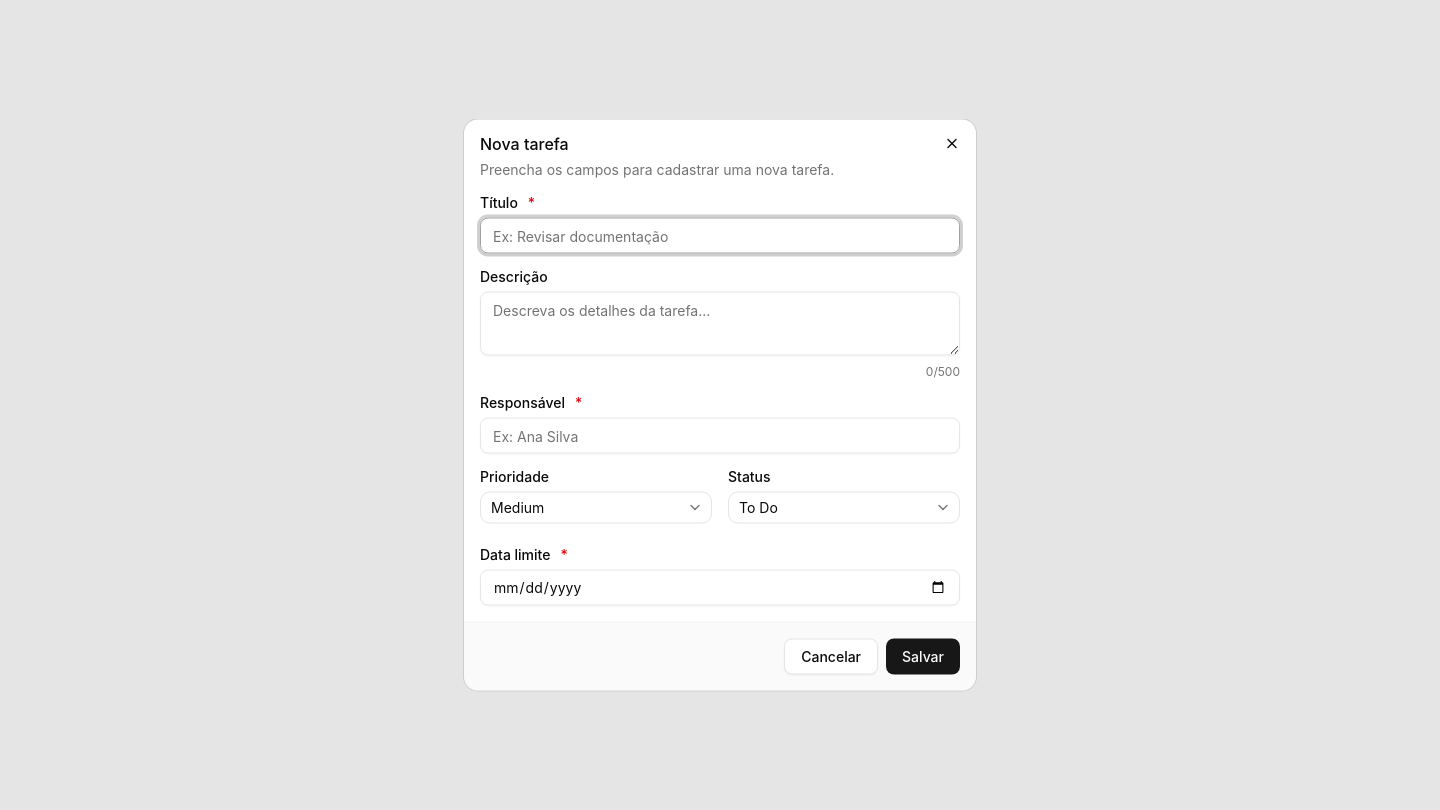
it: TaskForm › exibe erros de validação ao submeter formulário inválido
What coordinates should you click on to do the following:
click the button "Salvar"
I would click on:
 (923, 656)
Its box is [886,638,960,674].
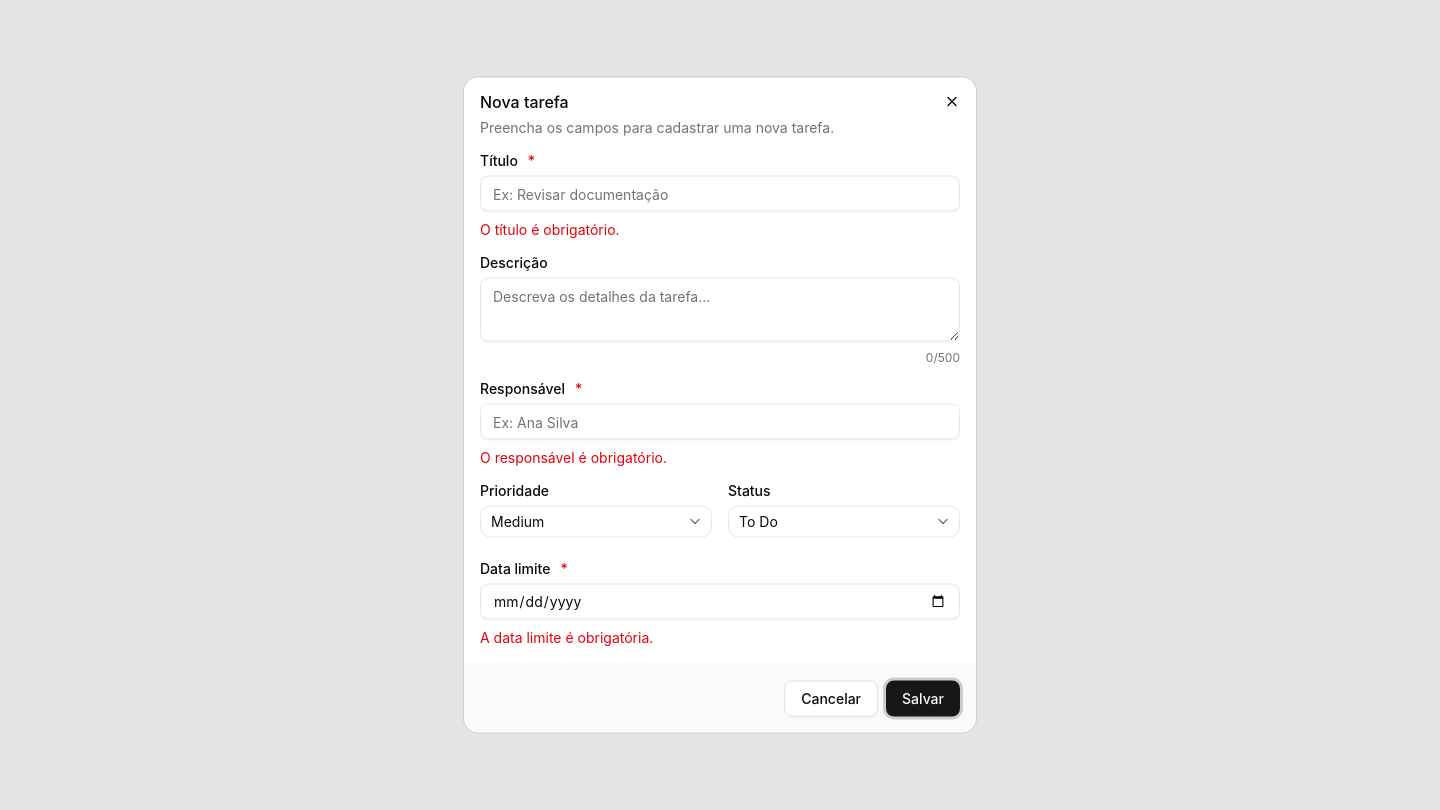
Expected: the text "O título é obrigatório." is shown, [480,220,620,238]
Expected: the text "O responsável é obrigatório." is shown, [480,448,667,466]
Expected: the text "A data limite é obrigatória." is shown, [480,628,653,646]
